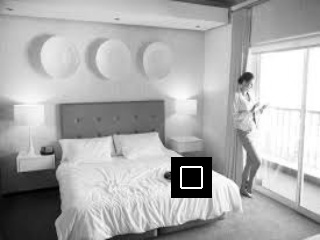square: (171, 157, 212, 198)
